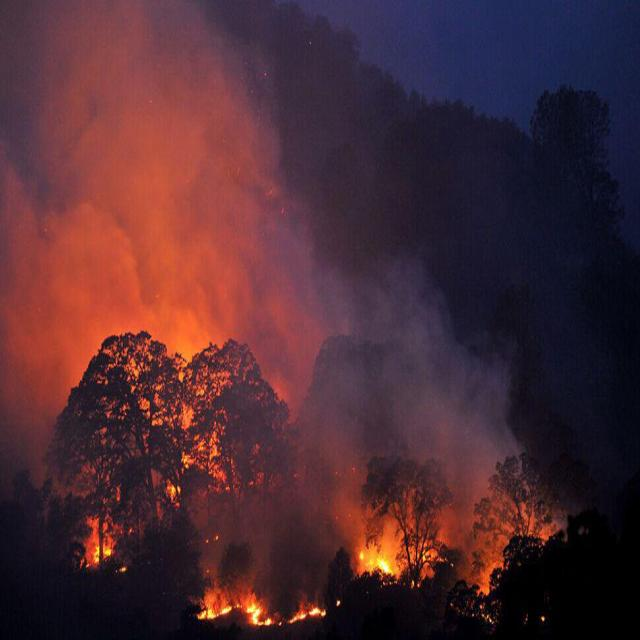fire: (192, 556, 327, 630), (355, 510, 434, 587), (86, 508, 124, 569)
